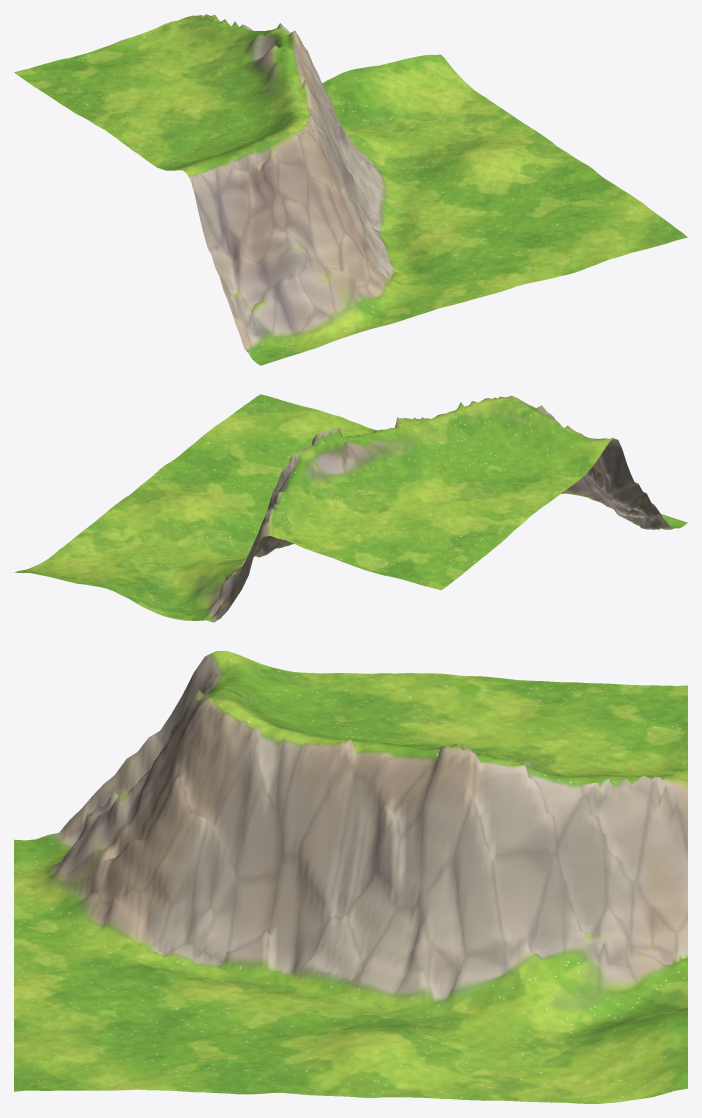
3 renders of one model, top to bottom at view 1: azimuth 30°, elevation 25°; view 2: azimuth 150°, elevation 25°; view 3: azimuth 270°, elevation 25°, orthographic. The views are drawn at different scales.
Parts seen in each view (by area): view 1: t128_128; view 2: t128_128; view 3: t128_128.
Part boxes in pixels (x1=…): t128_128: x1=14, y1=14, x2=687, y2=365; t128_128: x1=14, y1=394, x2=687, y2=622; t128_128: x1=14, y1=651, x2=687, y2=1103.
Bounding box in the file's own units: 64 × 23.55 × 64.
1 material, 1 textured.
